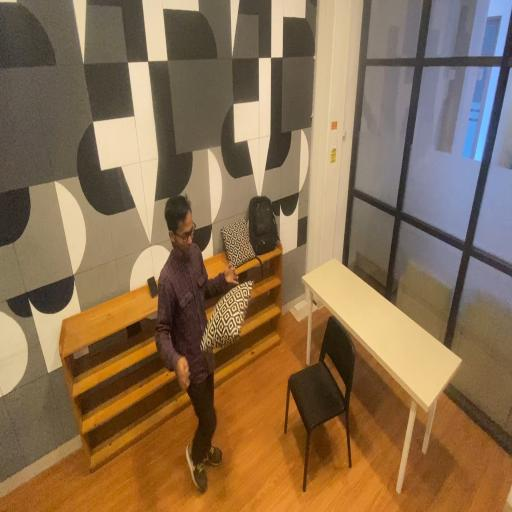bantal: (201, 280, 255, 362), (220, 217, 258, 271)
hp: (146, 272, 160, 306)
kursi: (284, 306, 358, 497)
lemari: (56, 263, 203, 472), (171, 230, 287, 392)
meja: (298, 252, 467, 500)
tas ransel: (247, 195, 283, 262)
